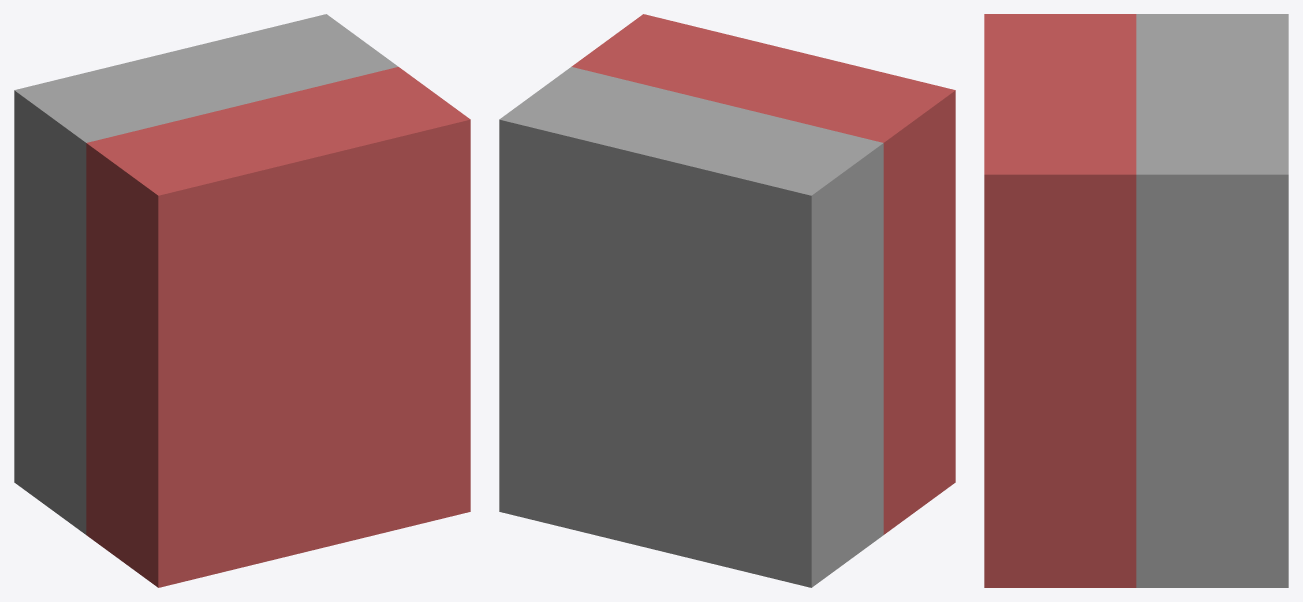
The picture shows the model from 3 angles, left to right: view 1: azimuth 30°, elevation 25°; view 2: azimuth 150°, elevation 25°; view 3: azimuth 270°, elevation 25°; orthographic projection. The views are drawn at different scales.
Visible parts, largest first — view 1: midstudy_orientation; view 2: midstudy_orientation; view 3: midstudy_orientation.
Boxes of the visible parts, box(x1,y1,x2,y2) form: midstudy_orientation: box(14, 14, 470, 587); midstudy_orientation: box(499, 14, 955, 587); midstudy_orientation: box(984, 14, 1288, 587).
Bounding box in the file's own units: 0.5 × 0.6 × 0.4.
